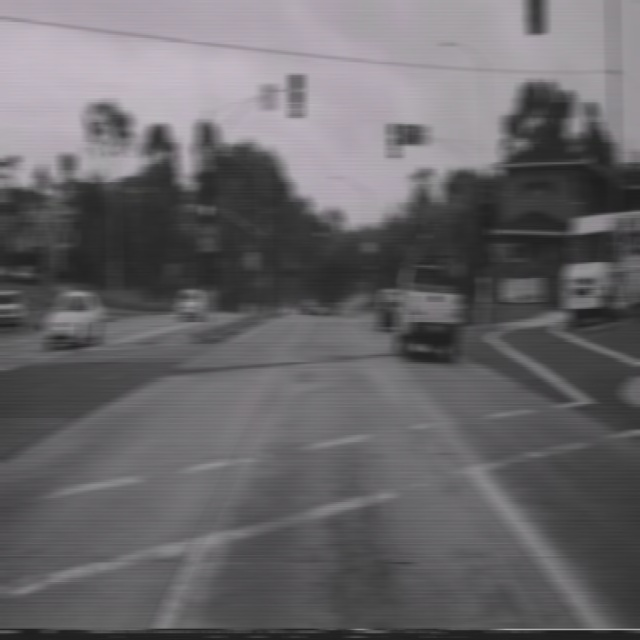noLeftTurn: (200, 223, 215, 252)
